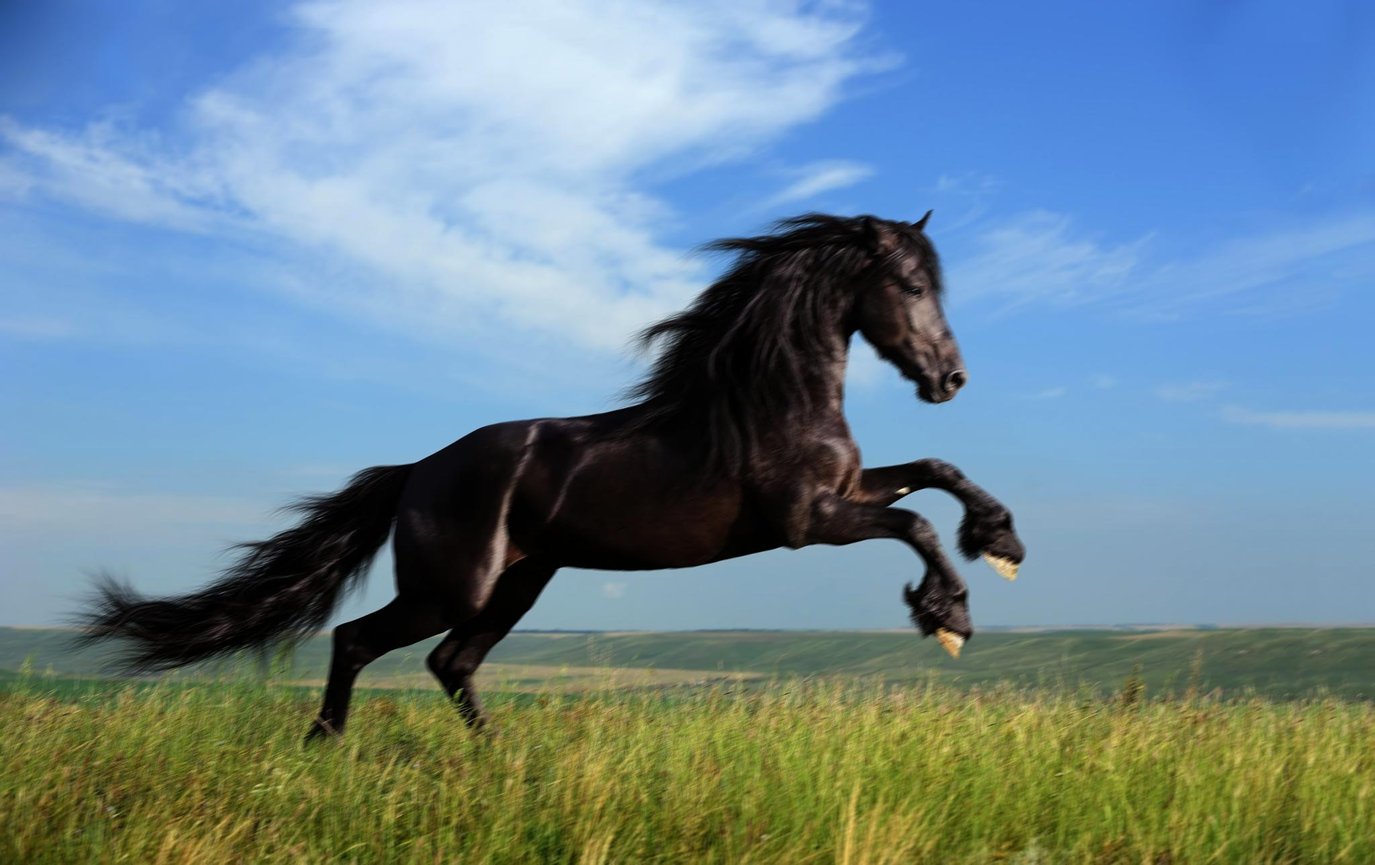horse: (67, 200, 1037, 754)
